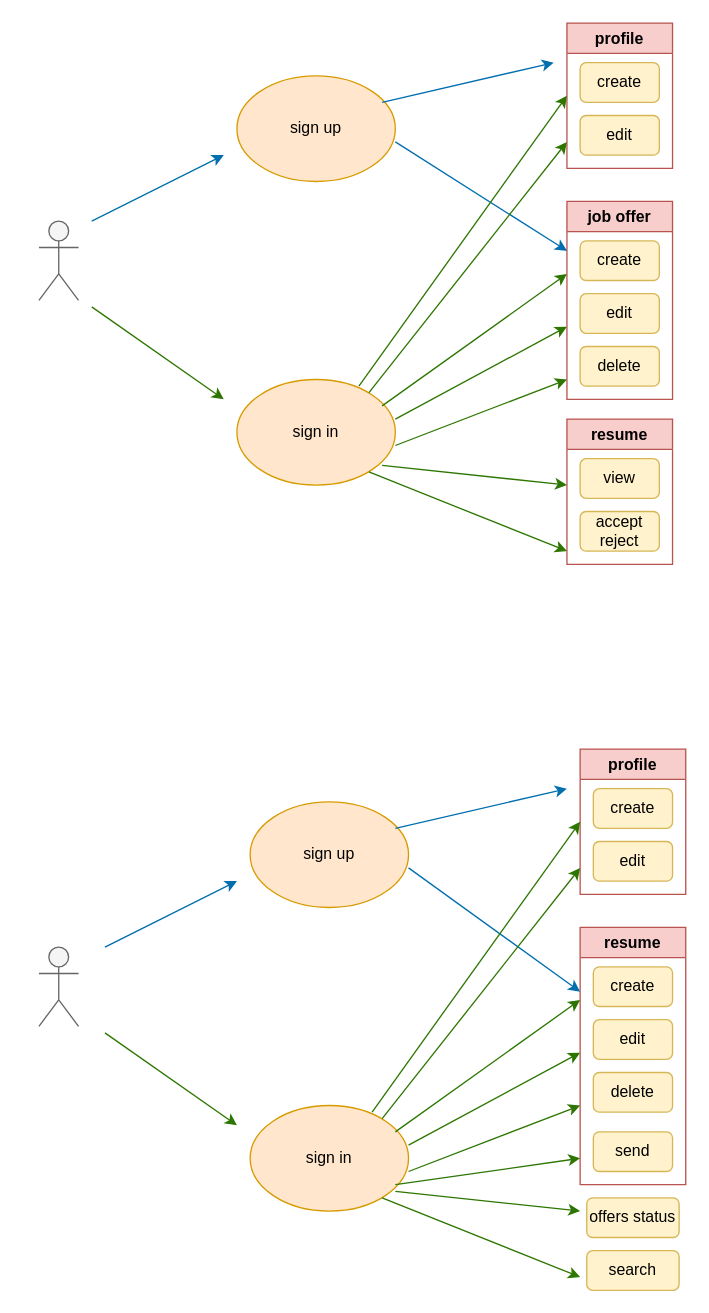
Some shapes in this 709 by 1313 pixel diagram are drawn without their labels. The centre of each missing label's shape, as x and y in pixels:
employer: the point at 58,260
job seeker: the point at 58,986
